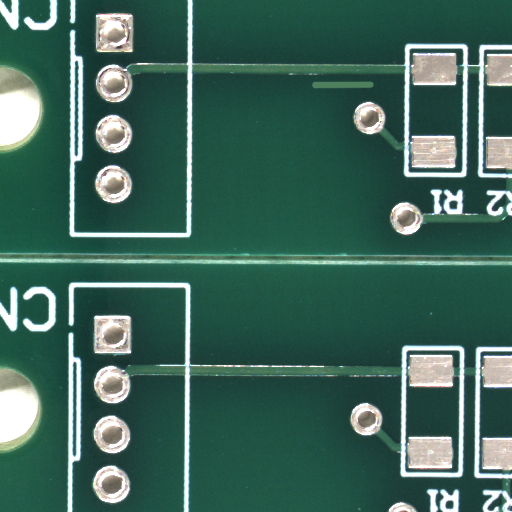Spurious_copper: (342, 84, 408, 95)
